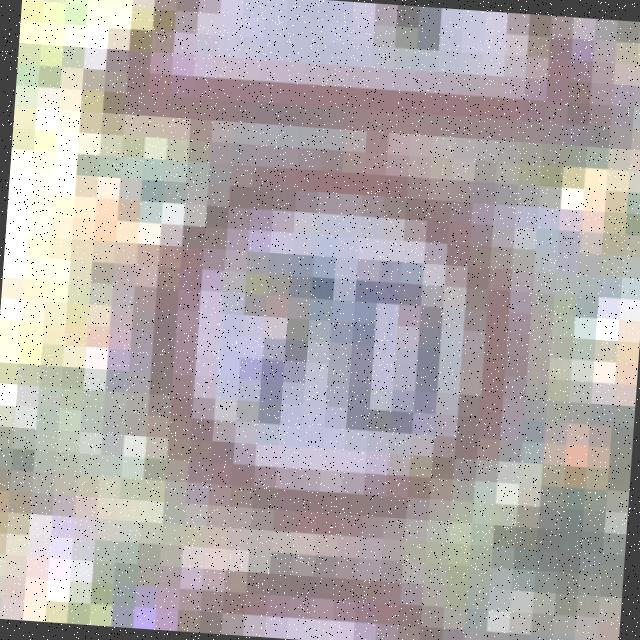Ograniczenie predkosci do 70: (136, 144, 534, 540)
